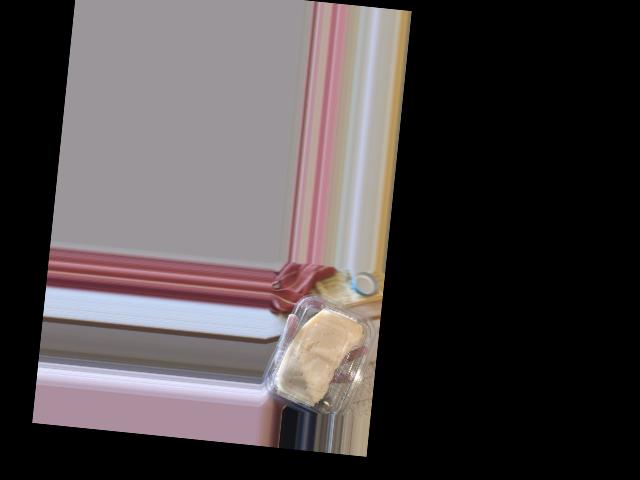cheese: (266, 289, 376, 418)
